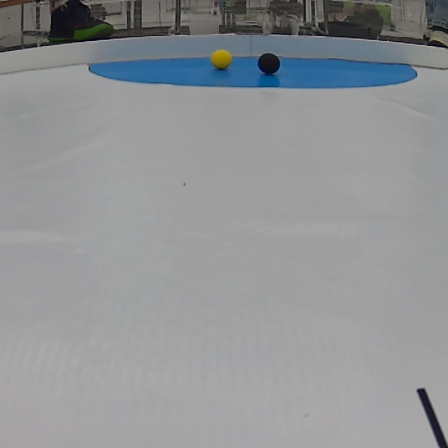black: (258, 52, 282, 75)
blue_base: (88, 51, 423, 94)
yellow: (210, 49, 230, 70)
